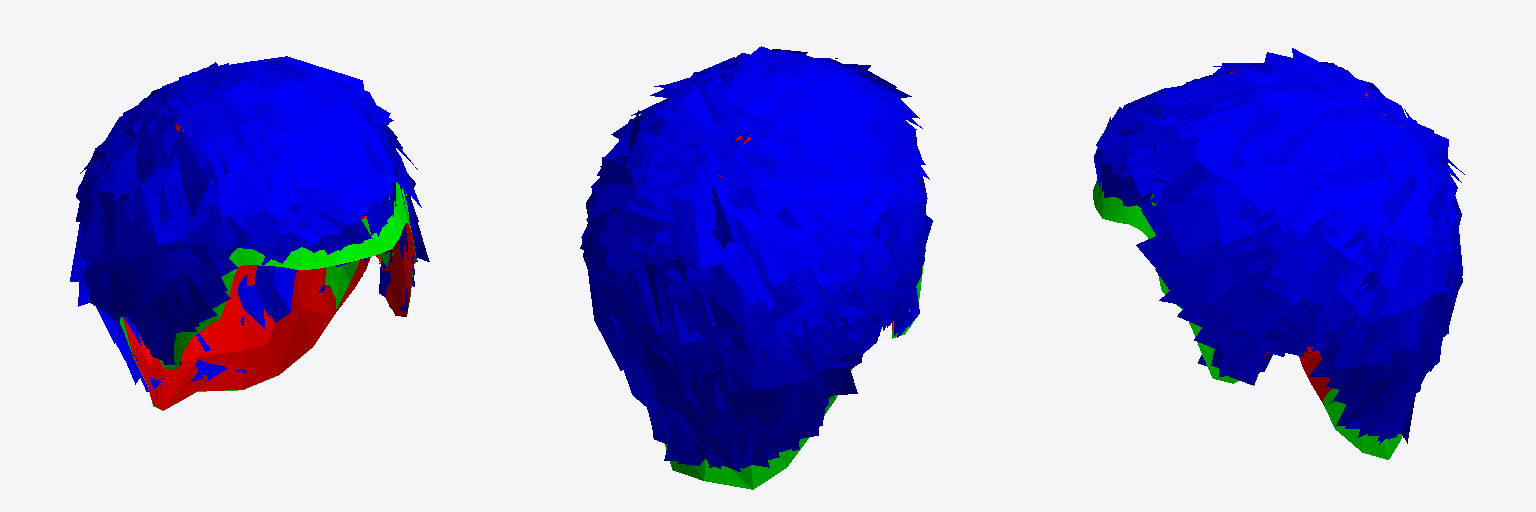
Rendered from hair_010.obj.
The picture shows the model from 3 angles: view 1: azimuth 30°, elevation 25°; view 2: azimuth 150°, elevation 25°; view 3: azimuth 270°, elevation 25°; orthographic projection.
Bounding box in the file's own units: 18.34 × 21.81 × 20.01.